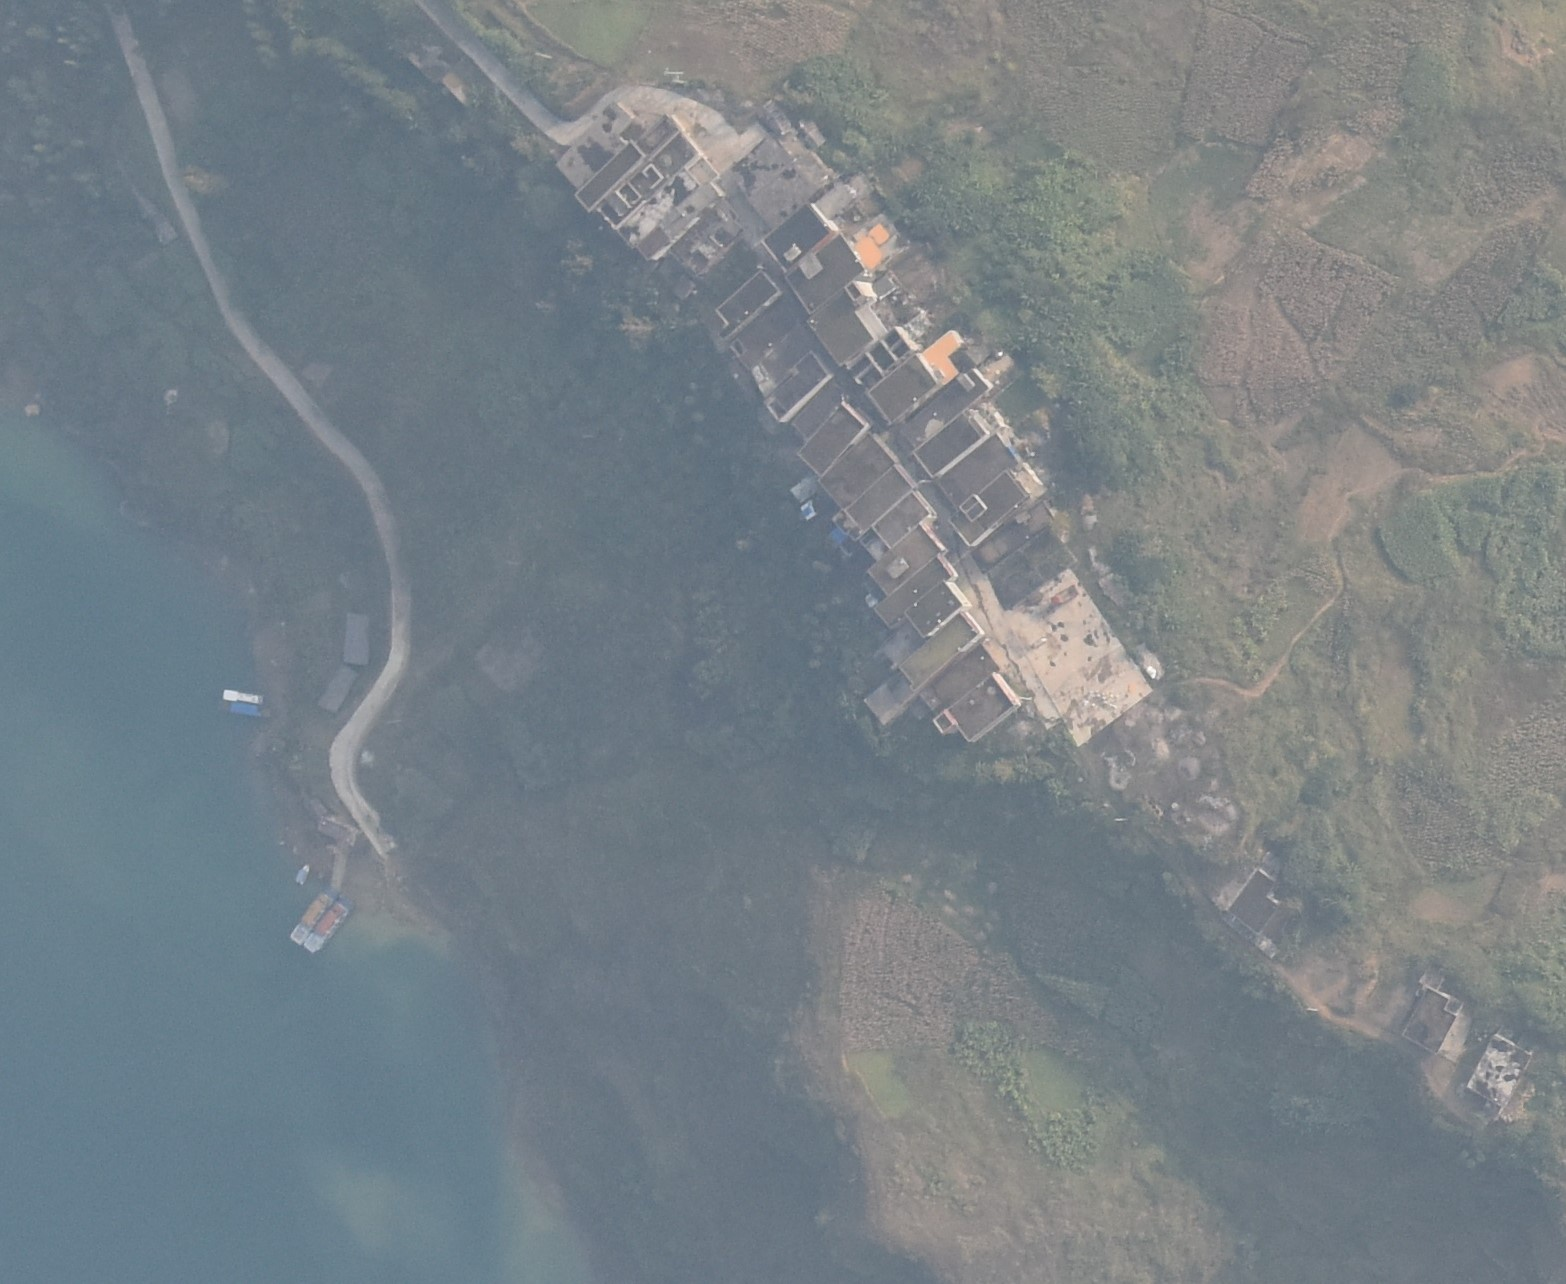building: (596, 125, 704, 235), (732, 133, 832, 232), (985, 524, 1080, 615), (630, 183, 728, 264), (914, 641, 1005, 727), (933, 433, 1026, 513), (555, 105, 641, 191), (897, 371, 987, 453), (896, 611, 985, 692), (968, 496, 1055, 575), (614, 169, 697, 250), (665, 198, 741, 285), (943, 471, 1028, 549), (868, 558, 955, 634), (927, 673, 1017, 745), (845, 321, 914, 414), (910, 403, 991, 481), (816, 431, 897, 506), (805, 281, 871, 372), (795, 399, 866, 481), (865, 349, 938, 428), (868, 527, 948, 598), (787, 235, 861, 312), (572, 140, 645, 219), (728, 297, 799, 369), (1466, 1032, 1531, 1108), (753, 327, 823, 397), (760, 354, 829, 425), (760, 203, 829, 274), (715, 267, 782, 340), (845, 464, 914, 531), (1398, 985, 1459, 1059), (855, 212, 910, 285), (1223, 866, 1279, 935), (870, 492, 934, 552), (897, 580, 962, 637), (793, 384, 848, 437), (913, 289, 961, 349), (313, 660, 359, 717), (633, 112, 682, 160), (812, 180, 853, 226), (339, 610, 371, 666), (753, 98, 793, 140), (688, 157, 721, 194), (795, 114, 826, 151)
ship: (285, 889, 339, 944), (304, 896, 352, 956), (222, 684, 265, 706), (228, 701, 272, 719), (297, 863, 311, 889)
vehicle: (1052, 584, 1080, 608)
